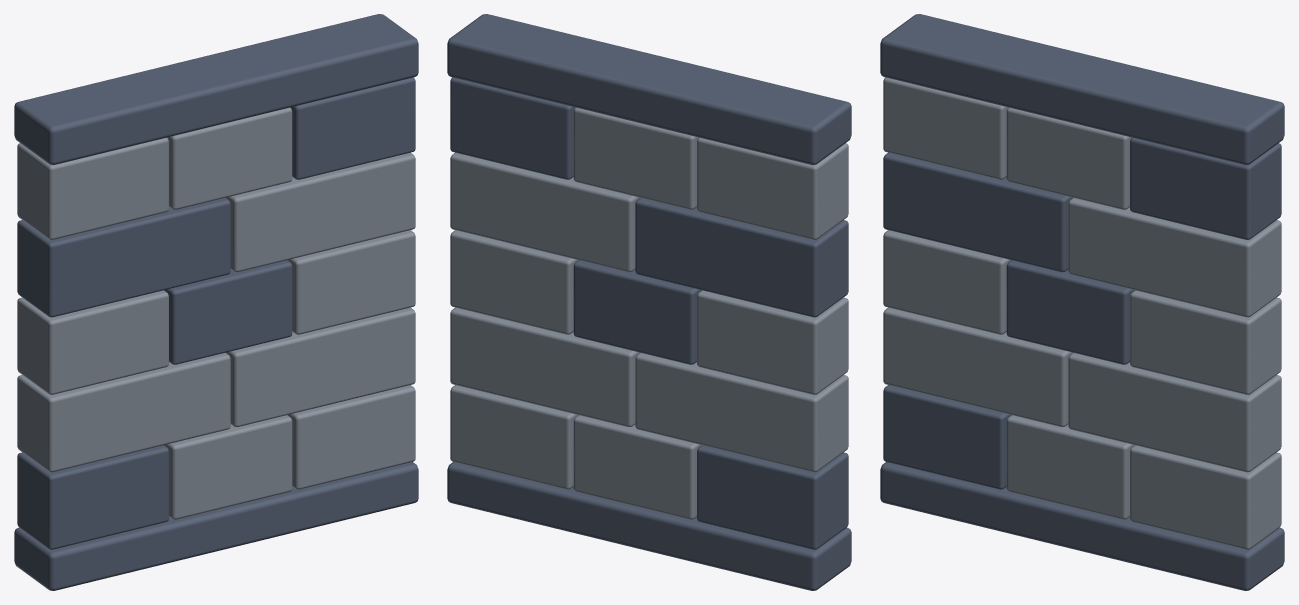
The model's file is dungeon-wall.glb.
The picture shows the model from 3 angles, left to right: view 1: azimuth 30°, elevation 25°; view 2: azimuth 150°, elevation 25°; view 3: azimuth 330°, elevation 25°; orthographic projection.
Parts seen in each view (by area): view 1: wall-cap, wall-foot, brick-1-0, brick-3-0, brick-3-1, brick-1-1, brick-2-0, brick-0-0, brick-4-0, brick-0-1, brick-2-1, brick-2-2 (+3 smaller); view 2: wall-cap, wall-foot, brick-1-0, brick-3-0, brick-3-1, brick-1-1, brick-2-0, brick-0-0, brick-4-0, brick-0-1, brick-2-1, brick-2-2 (+3 smaller); view 3: wall-cap, wall-foot, brick-1-1, brick-3-1, brick-3-0, brick-1-0, brick-2-2, brick-0-2, brick-4-2, brick-0-1, brick-2-1, brick-2-0 (+3 smaller).
Boxes of the visible parts, x1=… form: wall-cap: x1=14, y1=14, x2=418, y2=164; wall-foot: x1=14, y1=462, x2=418, y2=590; brick-1-0: x1=17, y1=352, x2=230, y2=472; brick-3-0: x1=17, y1=198, x2=230, y2=317; brick-3-1: x1=226, y1=152, x2=415, y2=272; brick-1-1: x1=226, y1=307, x2=415, y2=427; brick-2-0: x1=17, y1=290, x2=168, y2=394; brick-0-0: x1=17, y1=445, x2=168, y2=549; brick-4-0: x1=17, y1=137, x2=168, y2=239; brick-0-1: x1=164, y1=415, x2=292, y2=519; brick-2-1: x1=164, y1=260, x2=292, y2=364; brick-2-2: x1=287, y1=230, x2=415, y2=334; wall-cap: x1=447, y1=14, x2=851, y2=164; wall-foot: x1=447, y1=462, x2=851, y2=590; brick-1-0: x1=635, y1=352, x2=848, y2=472; brick-3-0: x1=635, y1=198, x2=848, y2=317; brick-3-1: x1=450, y1=152, x2=639, y2=272; brick-1-1: x1=450, y1=307, x2=639, y2=427; brick-2-0: x1=697, y1=290, x2=848, y2=394; brick-0-0: x1=697, y1=445, x2=848, y2=549; brick-4-0: x1=697, y1=137, x2=848, y2=239; brick-0-1: x1=573, y1=415, x2=701, y2=519; brick-2-1: x1=573, y1=260, x2=701, y2=364; brick-2-2: x1=450, y1=230, x2=578, y2=334; wall-cap: x1=880, y1=14, x2=1284, y2=164; wall-foot: x1=880, y1=462, x2=1284, y2=590; brick-1-1: x1=1068, y1=352, x2=1281, y2=472; brick-3-1: x1=1068, y1=198, x2=1281, y2=317; brick-3-0: x1=883, y1=152, x2=1072, y2=272; brick-1-0: x1=883, y1=307, x2=1072, y2=427; brick-2-2: x1=1130, y1=290, x2=1281, y2=394; brick-0-2: x1=1130, y1=445, x2=1281, y2=549; brick-4-2: x1=1130, y1=137, x2=1281, y2=239; brick-0-1: x1=1006, y1=415, x2=1134, y2=519; brick-2-1: x1=1006, y1=260, x2=1134, y2=364; brick-2-0: x1=883, y1=230, x2=1011, y2=334.
Size of the model in its own units: 2 by 2.4 by 0.36.
